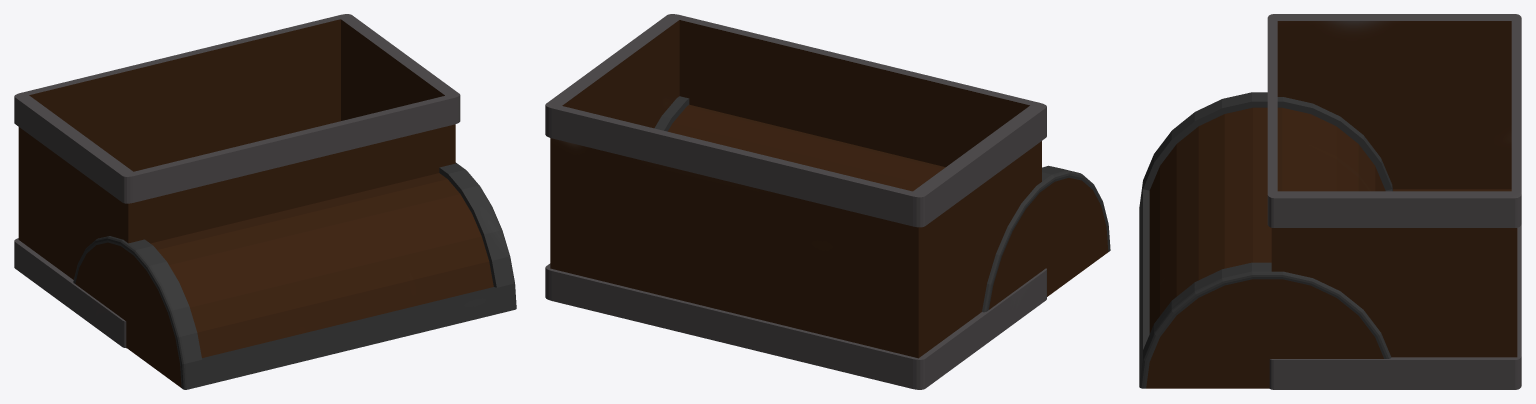
Rendered from chest.fbx.
The picture shows the model from 3 angles, left to right: view 1: azimuth 30°, elevation 25°; view 2: azimuth 150°, elevation 25°; view 3: azimuth 270°, elevation 25°; orthographic projection. The views are drawn at different scales.
Visible parts, largest first — view 1: Box, Lid; view 2: Box, Lid; view 3: Box, Lid.
Boxes of the visible parts, x1,y1,x2,y2 form: Box: [14, 14, 460, 348]; Lid: [73, 162, 516, 389]; Box: [545, 14, 1046, 389]; Lid: [654, 96, 1110, 312]; Box: [1267, 14, 1521, 389]; Lid: [1139, 92, 1392, 388].
Size of the model in its own units: 206 by 100 by 181.
2 materials, 2 textured.
